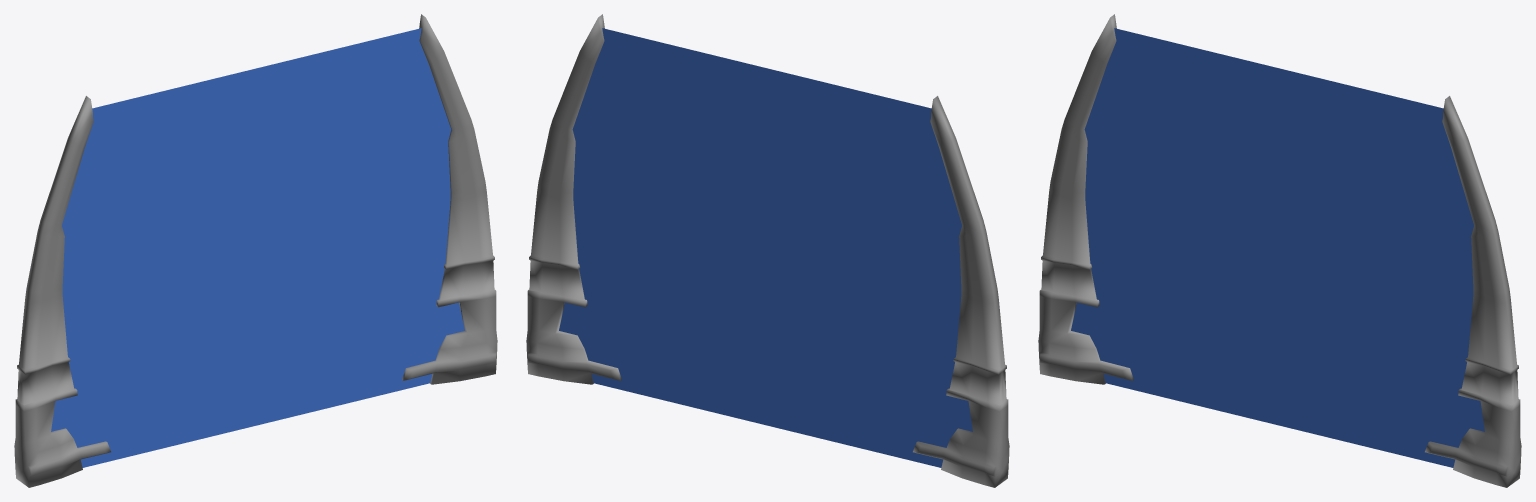
File: LASER_BARRIER(1).FBX
3 views of the same model, side by side, from view 1: azimuth 30°, elevation 25°; view 2: azimuth 150°, elevation 25°; view 3: azimuth 330°, elevation 25° (orthographic).
Visible parts, largest first — view 1: Screen, Post02, Post01; view 2: Screen, Post02, Post01; view 3: Screen, Post01, Post02.
Part boxes in pixels (bbox=[...]): Screen: bbox=[51, 28, 464, 467]; Post02: bbox=[14, 96, 110, 487]; Post01: bbox=[402, 14, 497, 384]; Screen: bbox=[559, 28, 972, 467]; Post02: bbox=[913, 96, 1009, 487]; Post01: bbox=[526, 14, 621, 384]; Screen: bbox=[1071, 28, 1484, 467]; Post01: bbox=[1425, 96, 1521, 487]; Post02: bbox=[1038, 14, 1133, 384].
Size of the model in its own units: 5.19 by 3.88 by 0.2853.
